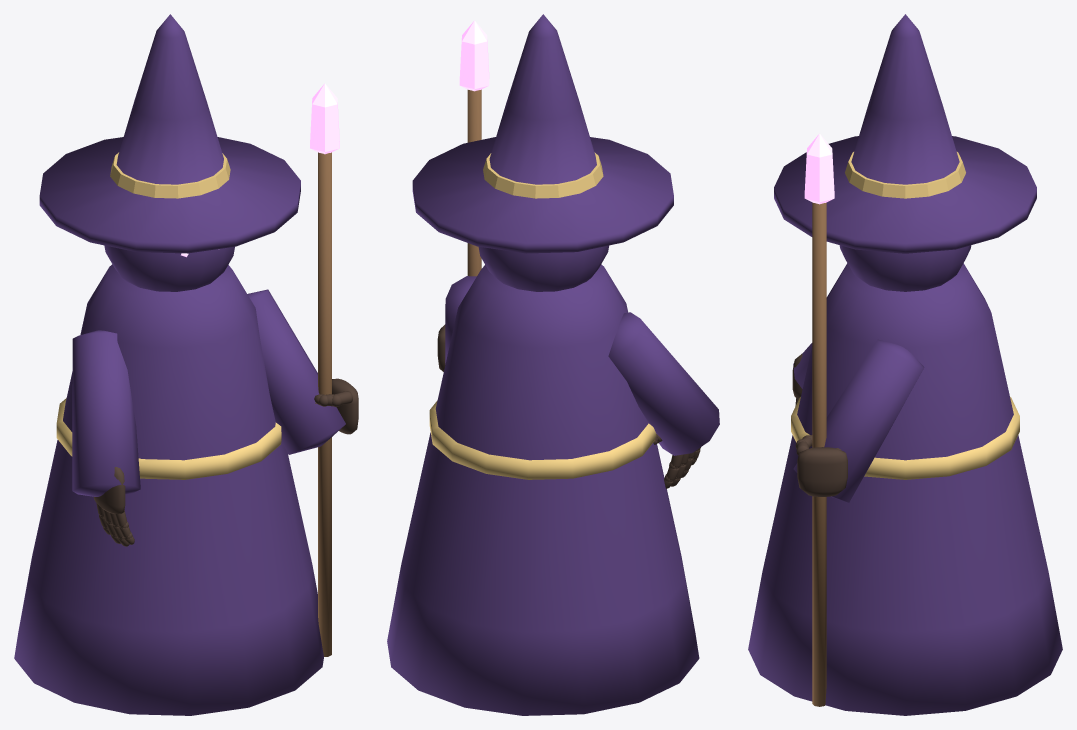
The model's file is wizard.glb.
3 views of the same model, side by side, from view 1: azimuth 30°, elevation 25°; view 2: azimuth 150°, elevation 25°; view 3: azimuth 270°, elevation 25° (orthographic).
Parts seen in each view (by area): view 1: wizard; view 2: wizard; view 3: wizard.
Boxes of the visible parts, <box> form: wizard: <box>14,14,358,715</box>; wizard: <box>387,14,719,715</box>; wizard: <box>748,14,1062,715</box>.
Bounding box in the file's own units: 1.12 × 2.45 × 1.1.
